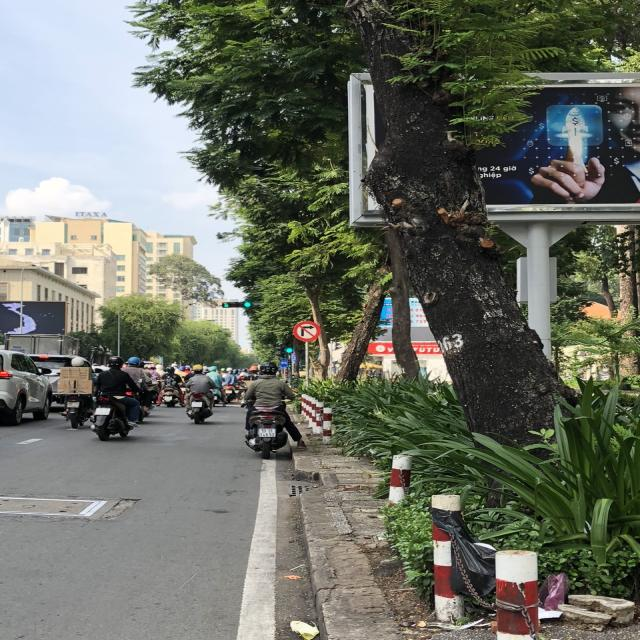Bien bao cam re phai: (288, 318, 323, 344)
